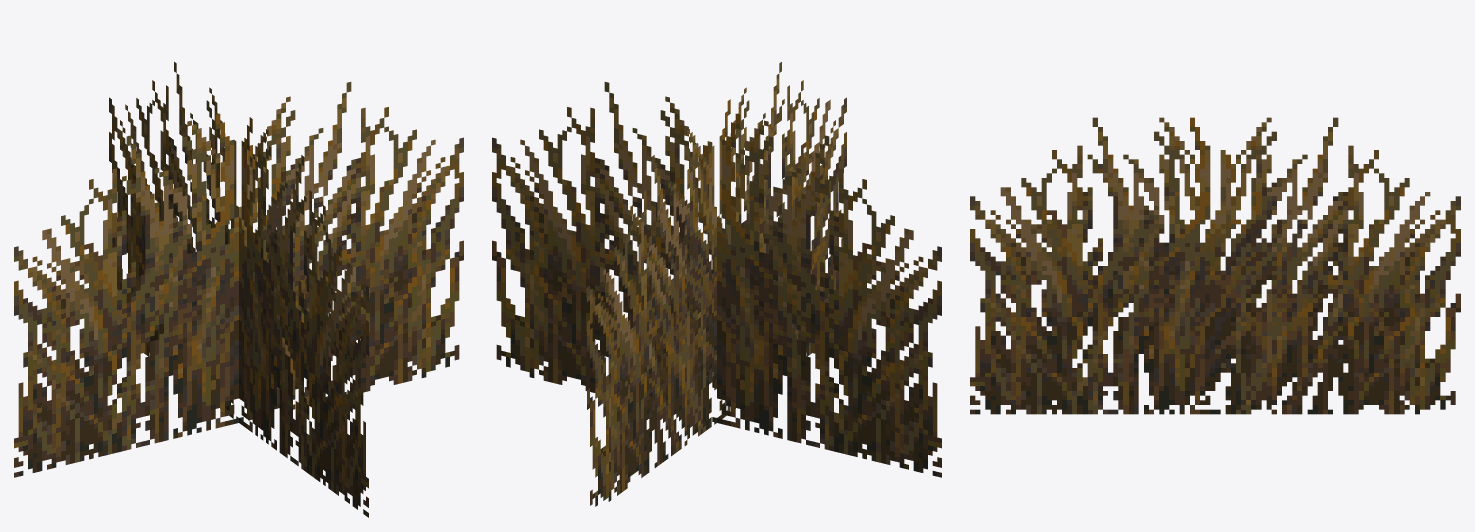
File: pasto-alto-dorado.glb
The picture shows the model from 3 angles, left to right: view 1: azimuth 30°, elevation 25°; view 2: azimuth 150°, elevation 25°; view 3: azimuth 270°, elevation 25°; orthographic projection. The views are drawn at different scales.
Visible parts, largest first — view 1: pasto-alto-dorado; view 2: pasto-alto-dorado; view 3: pasto-alto-dorado.
Part boxes in pixels (bbox=[...]): pasto-alto-dorado: bbox=[14, 62, 463, 517]; pasto-alto-dorado: bbox=[492, 62, 941, 506]; pasto-alto-dorado: bbox=[970, 117, 1460, 414].
Bounding box in the file's own units: 0.75 × 0.5 × 0.75.
Materials: 1 (1 with a texture image).
